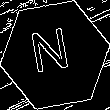N_S: (32, 27, 78, 83)
